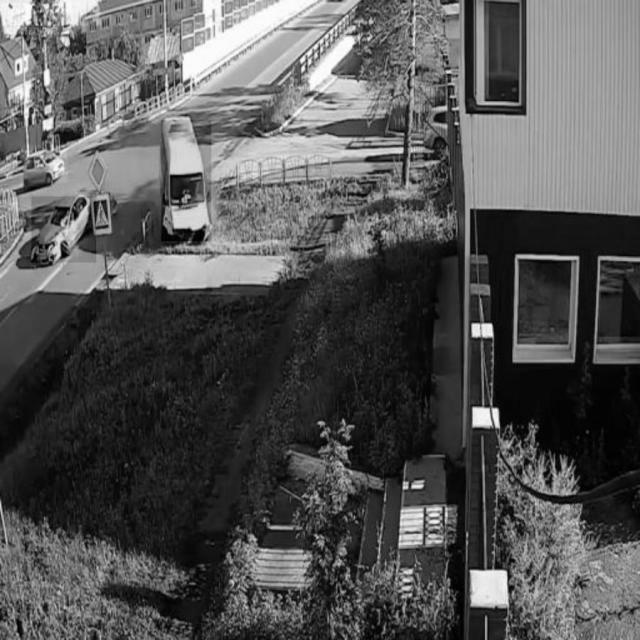vehicle: (162, 120, 212, 241), (32, 197, 96, 263), (23, 145, 68, 182)
